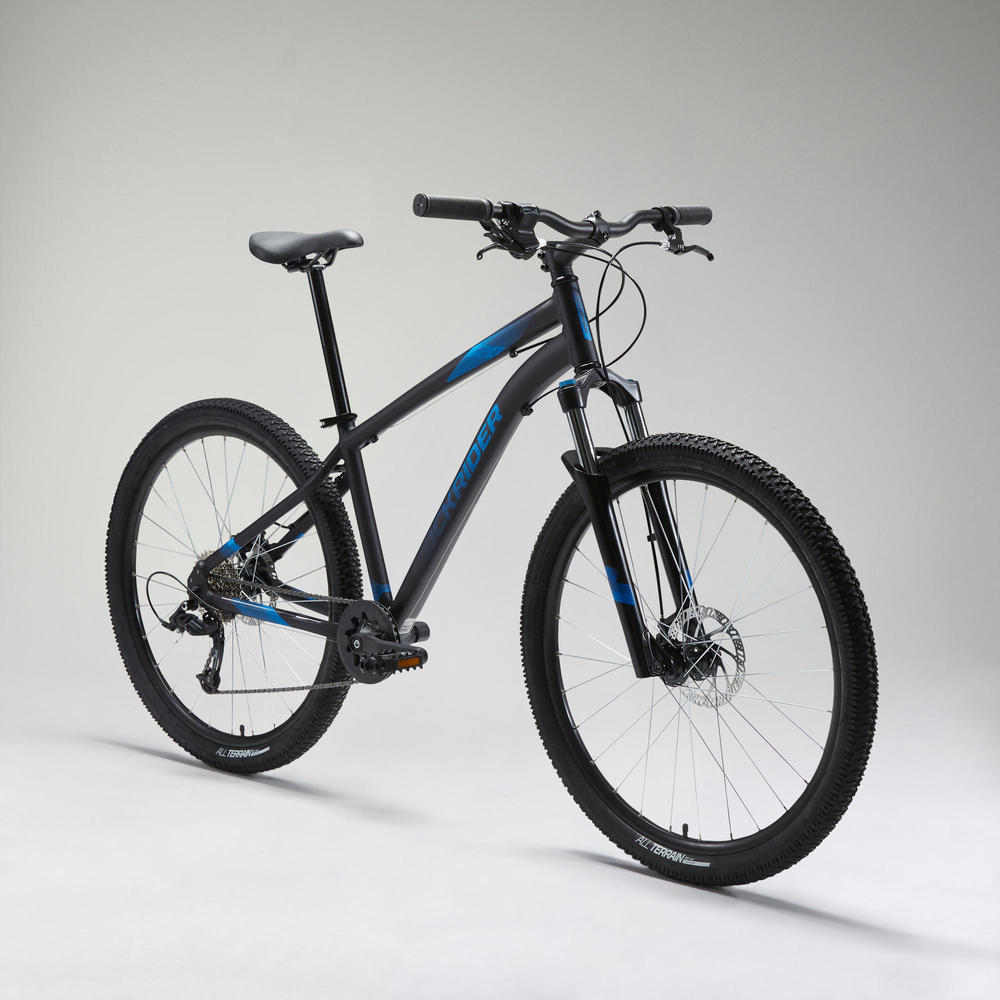MountainBike: (104, 176, 890, 887)
